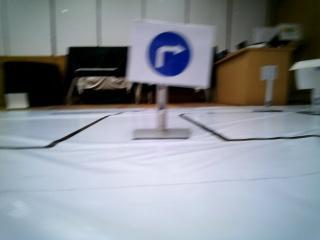right: (135, 20, 200, 78)
